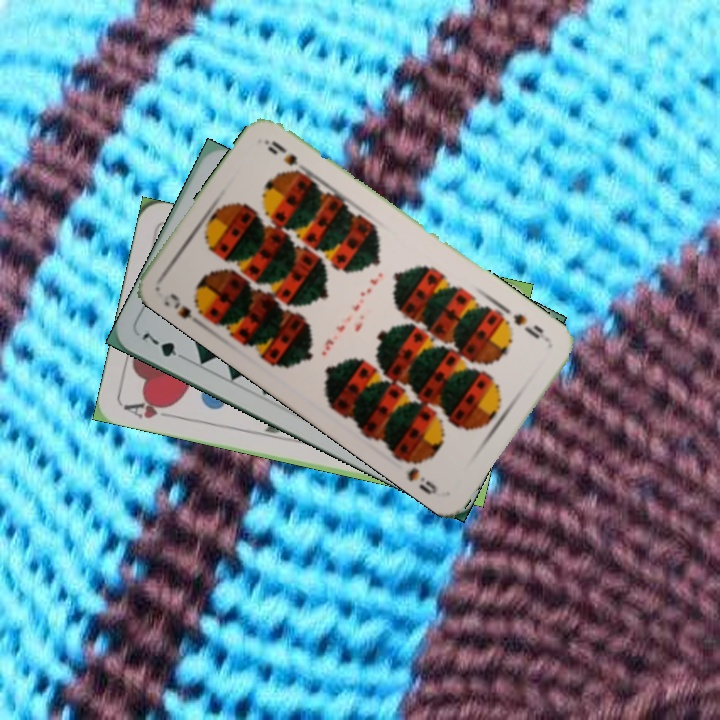G7: (138, 328, 191, 364)
HA: (120, 394, 179, 421)
S9: (165, 288, 211, 330), (509, 309, 547, 342)
